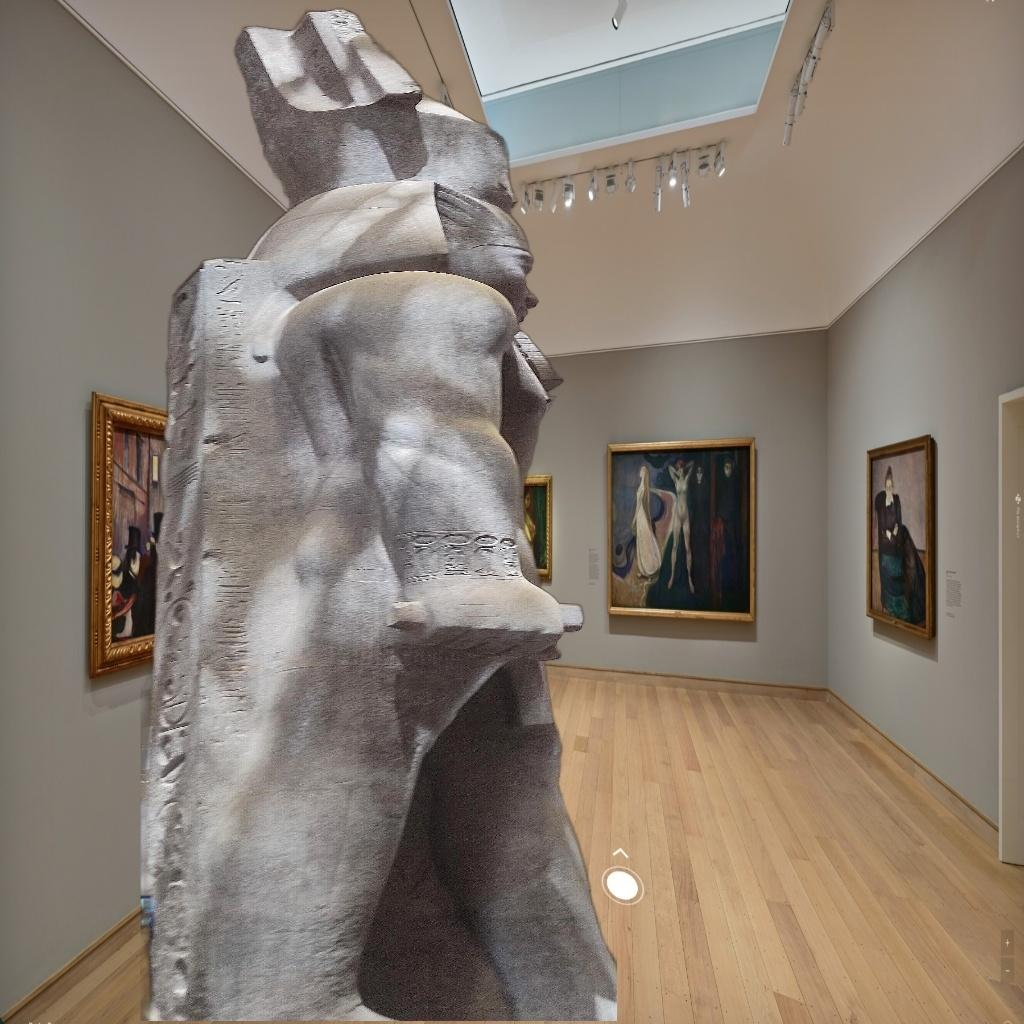Colossal Statue of Ramesses II beloved of Ptah: (141, 8, 617, 1022)
